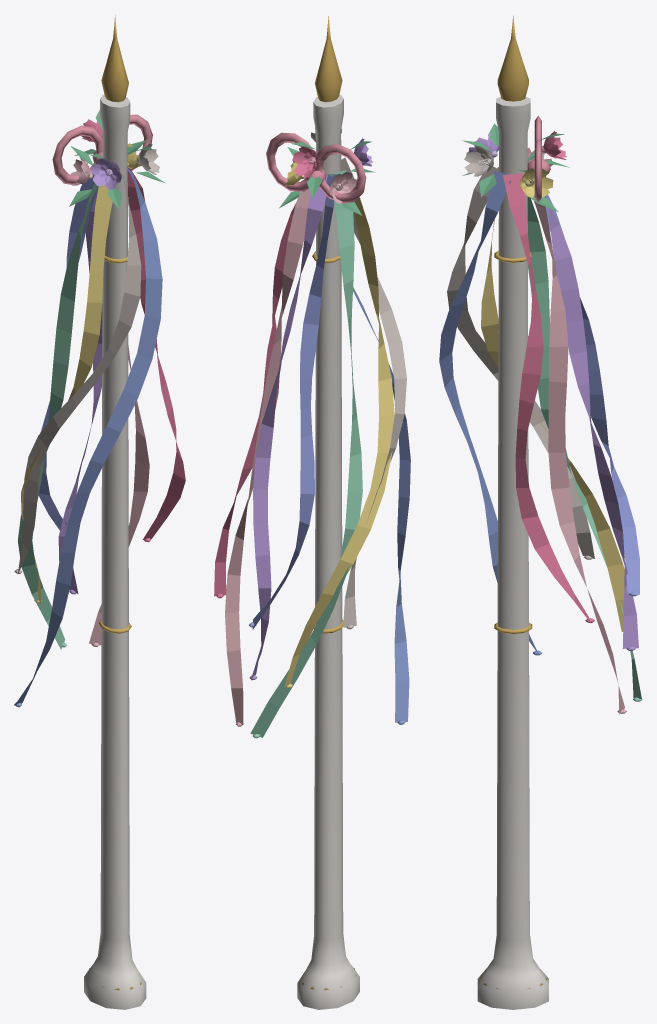
The model's file is garden_streamer_post.glb.
3 renders of one model, left to right at view 1: azimuth 30°, elevation 25°; view 2: azimuth 150°, elevation 25°; view 3: azimuth 270°, elevation 25°, orthographic.
Parts seen in each view (by area): view 1: garden_streamer_post; view 2: garden_streamer_post; view 3: garden_streamer_post.
Part boxes in pixels (left/top/right/bottom): garden_streamer_post: left=14, top=15, right=185, bottom=1009; garden_streamer_post: left=214, top=16, right=410, bottom=1009; garden_streamer_post: left=439, top=15, right=642, bottom=1009.
Size of what is drawn, in the model's own units: 0.6 by 3.2 by 0.6.
